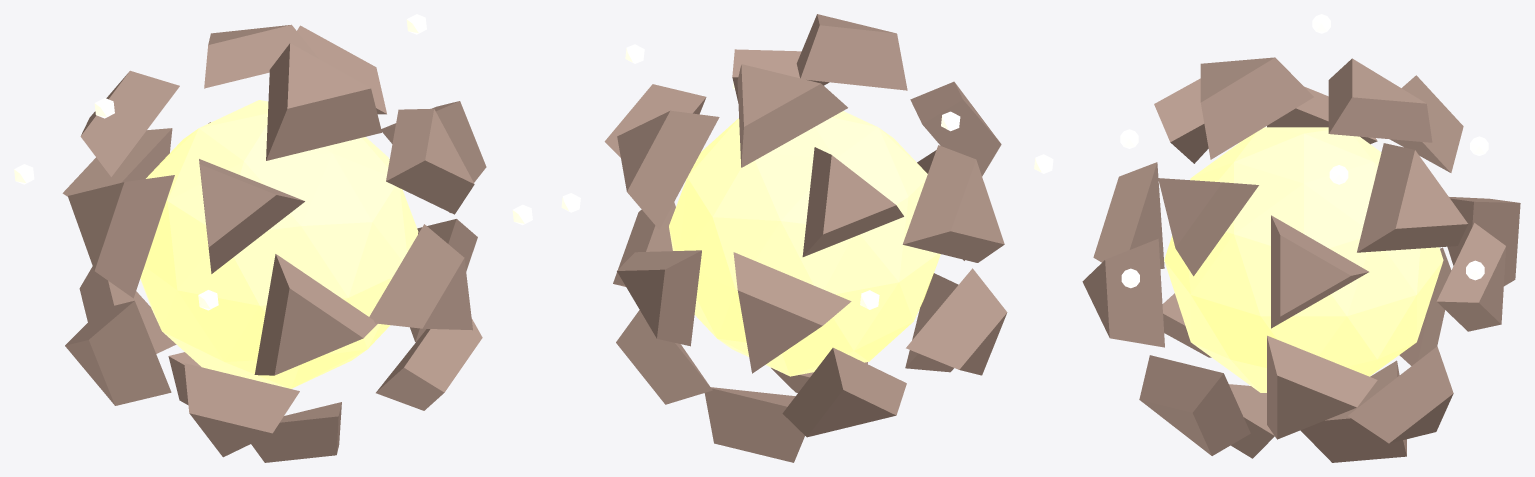
The model's file is lava-ball.glb.
The picture shows the model from 3 angles, left to right: view 1: azimuth 30°, elevation 25°; view 2: azimuth 150°, elevation 25°; view 3: azimuth 270°, elevation 25°; orthographic projection. The views are drawn at different scales.
Parts seen in each view (by area): view 1: LavaBall_Crust, LavaBall_Core, LavaBall_Cinders; view 2: LavaBall_Crust, LavaBall_Core, LavaBall_Cinders; view 3: LavaBall_Crust, LavaBall_Core, LavaBall_Cinders.
Boxes of the visible parts, <box> form: LavaBall_Crust: <box>62,24,486,462</box>; LavaBall_Core: <box>140,100,418,388</box>; LavaBall_Cinders: <box>14,14,532,310</box>; LavaBall_Crust: <box>604,14,1007,462</box>; LavaBall_Core: <box>669,111,940,376</box>; LavaBall_Cinders: <box>561,44,1053,309</box>; LavaBall_Crust: <box>1082,57,1520,462</box>; LavaBall_Core: <box>1164,127,1443,392</box>; LavaBall_Cinders: <box>1120,14,1488,288</box>.
Bounding box in the file's own units: 0.9804 × 1 × 0.9791.
